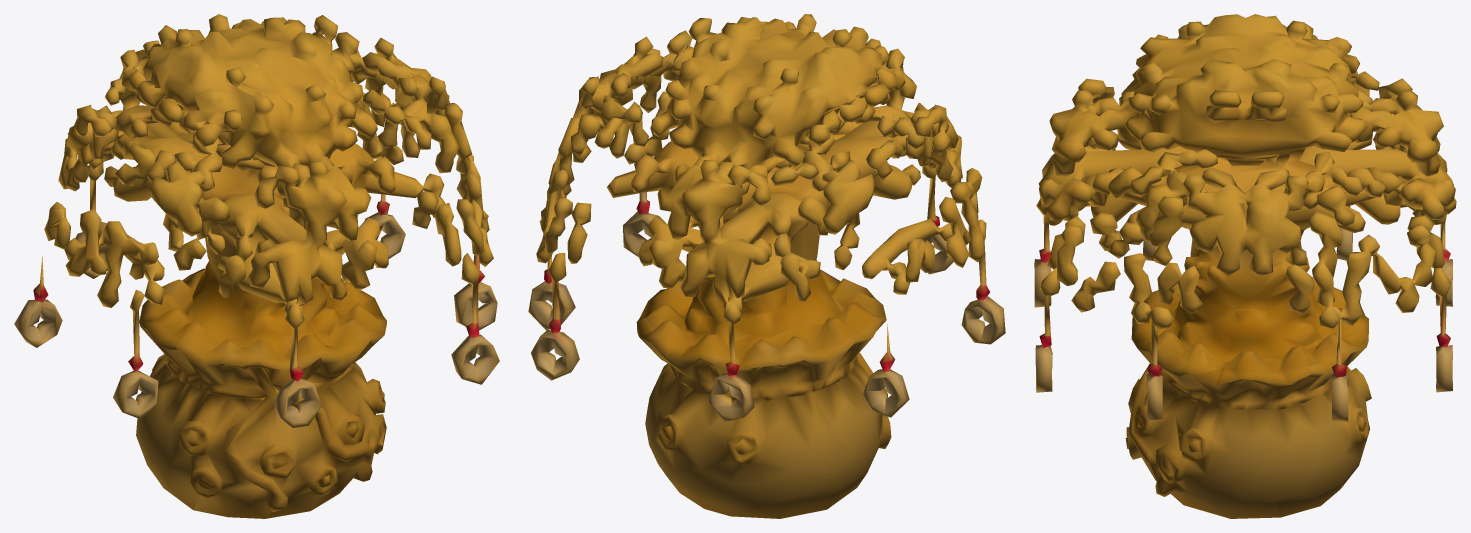
The model's file is 发财水晶树-Small.fbx.
The picture shows the model from 3 angles, left to right: view 1: azimuth 30°, elevation 25°; view 2: azimuth 150°, elevation 25°; view 3: azimuth 270°, elevation 25°; orthographic projection.
Parts seen in each view (by area): view 1: texture_pbr_v128; view 2: texture_pbr_v128; view 3: texture_pbr_v128.
Part boxes in pixels (x1,y1,x2,y2): texture_pbr_v128: [14, 14, 499, 518]; texture_pbr_v128: [528, 14, 1005, 518]; texture_pbr_v128: [1034, 14, 1456, 518].
Bounding box in the file's own units: 97.27 × 107 × 93.83.
Materials: 1 (1 with a texture image).
